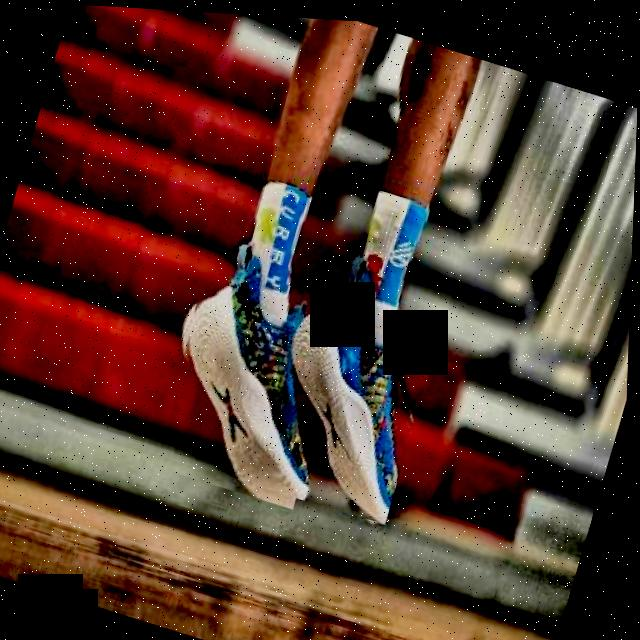shoe: (147, 224, 363, 508), (248, 234, 457, 523)
